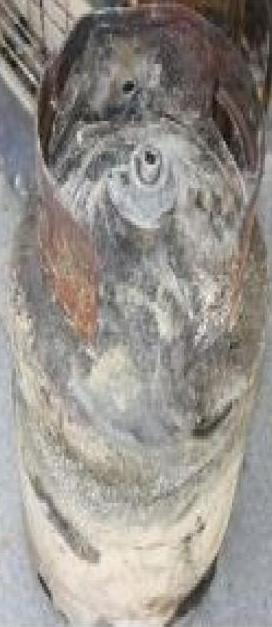cylinder: (1, 1, 272, 627)
